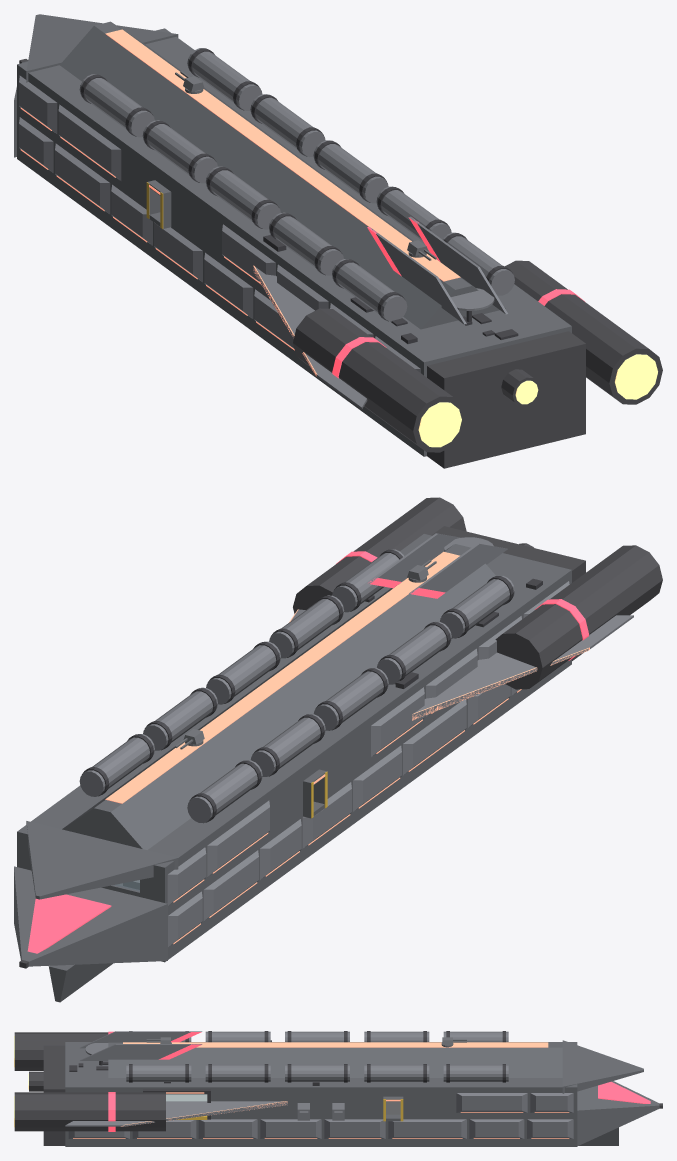
The model's file is ship_SMALL_SUPPORT_v3.glb.
3 renders of one model, top to bottom at view 1: azimuth 30°, elevation 25°; view 2: azimuth 150°, elevation 25°; view 3: azimuth 270°, elevation 25°, orthographic. The views are drawn at different scales.
Parts seen in each view (by area): view 1: SMALL_SUPPORT_Hull-col, SMALL_SUPPORT_Armor, SMALL_SUPPORT_Engines, SMALL_SUPPORT_Lights, SMALL_SUPPORT_EngineGlow, SMALL_SUPPORT_Trim, SMALL_SUPPORT_Accent, SMALL_SUPPORT_Details; view 2: SMALL_SUPPORT_Hull-col, SMALL_SUPPORT_Armor, SMALL_SUPPORT_Engines, SMALL_SUPPORT_Lights, SMALL_SUPPORT_Accent, SMALL_SUPPORT_Trim; view 3: SMALL_SUPPORT_Hull-col, SMALL_SUPPORT_Armor, SMALL_SUPPORT_Engines, SMALL_SUPPORT_Lights, SMALL_SUPPORT_Trim, SMALL_SUPPORT_Accent, SMALL_SUPPORT_CargoBayDoor-col, SMALL_SUPPORT_CargoBayShield, SMALL_SUPPORT_Details, SMALL_SUPPORT_Hazard, SMALL_SUPPORT_EscapePod_1, SMALL_SUPPORT_EscapePod_2 (+1 smaller).
Part boxes in pixels (box(x1,y1,x2,y2)): SMALL_SUPPORT_Hull-col: box(14, 14, 571, 456); SMALL_SUPPORT_Armor: box(19, 48, 514, 409); SMALL_SUPPORT_Engines: box(19, 59, 662, 468); SMALL_SUPPORT_Lights: box(20, 29, 460, 376); SMALL_SUPPORT_EngineGlow: box(418, 354, 657, 447); SMALL_SUPPORT_Trim: box(80, 48, 514, 321); SMALL_SUPPORT_Accent: box(332, 217, 584, 378); SMALL_SUPPORT_Details: box(263, 235, 518, 343); SMALL_SUPPORT_Hull-col: box(14, 534, 571, 1002); SMALL_SUPPORT_Armor: box(79, 533, 633, 947); SMALL_SUPPORT_Engines: box(19, 497, 662, 968); SMALL_SUPPORT_Lights: box(105, 551, 589, 944); SMALL_SUPPORT_Accent: box(27, 551, 589, 953); SMALL_SUPPORT_Trim: box(82, 549, 513, 822); SMALL_SUPPORT_Hull-col: box(65, 1040, 659, 1146); SMALL_SUPPORT_Armor: box(65, 1031, 573, 1138); SMALL_SUPPORT_Engines: box(14, 1032, 662, 1145); SMALL_SUPPORT_Lights: box(73, 1042, 569, 1138); SMALL_SUPPORT_Trim: box(99, 1031, 505, 1119); SMALL_SUPPORT_Accent: box(108, 1031, 650, 1131); SMALL_SUPPORT_CargoBayDoor-col: box(166, 1094, 207, 1101); SMALL_SUPPORT_CargoBayShield: box(166, 1094, 207, 1101); SMALL_SUPPORT_Details: box(69, 1040, 319, 1085); SMALL_SUPPORT_Hazard: box(176, 1099, 403, 1121); SMALL_SUPPORT_EscapePod_1: box(297, 1103, 309, 1120); SMALL_SUPPORT_EscapePod_2: box(332, 1103, 344, 1120).
Bounding box in the file's own units: 27.41 × 16.45 × 90.
